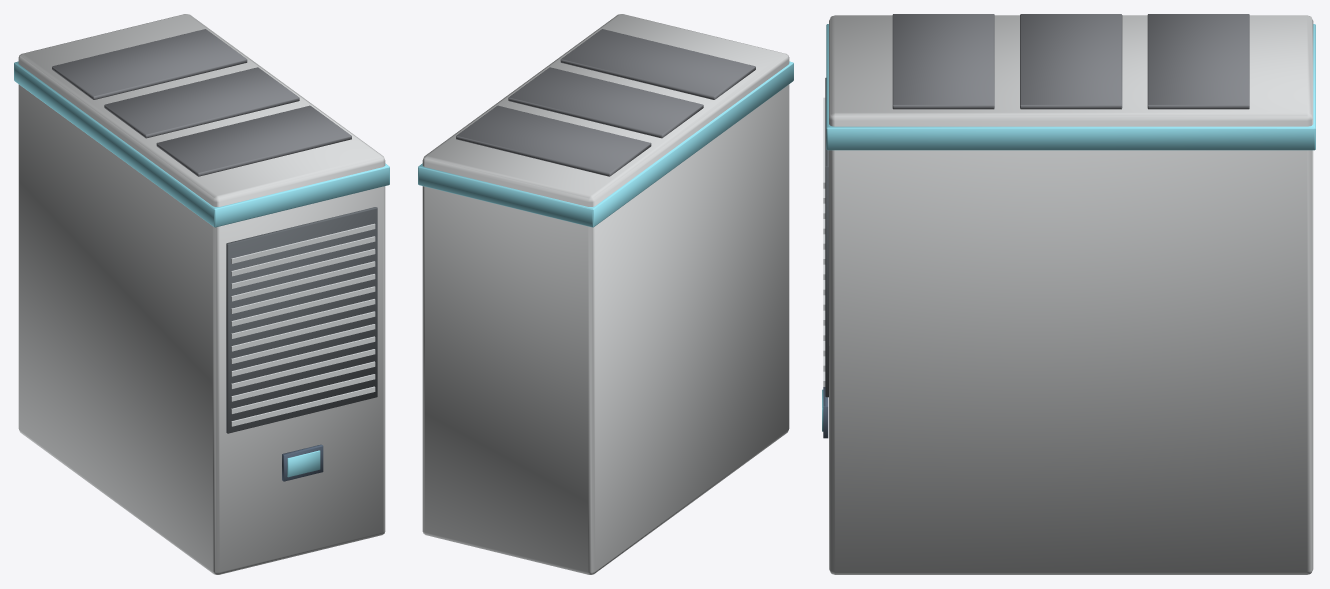
Rendered from crah.glb.
3 renders of one model, left to right at view 1: azimuth 30°, elevation 25°; view 2: azimuth 150°, elevation 25°; view 3: azimuth 270°, elevation 25°, orthographic. The views are drawn at different scales.
Visible parts, largest first — view 1: Body; view 2: Body; view 3: Body.
Boxes of the visible parts, bbox=[...] form: Body: bbox=[14, 14, 389, 574]; Body: bbox=[418, 14, 793, 574]; Body: bbox=[822, 14, 1315, 574].
Size of the model in its own units: 0.97 by 2.02 by 1.94.
